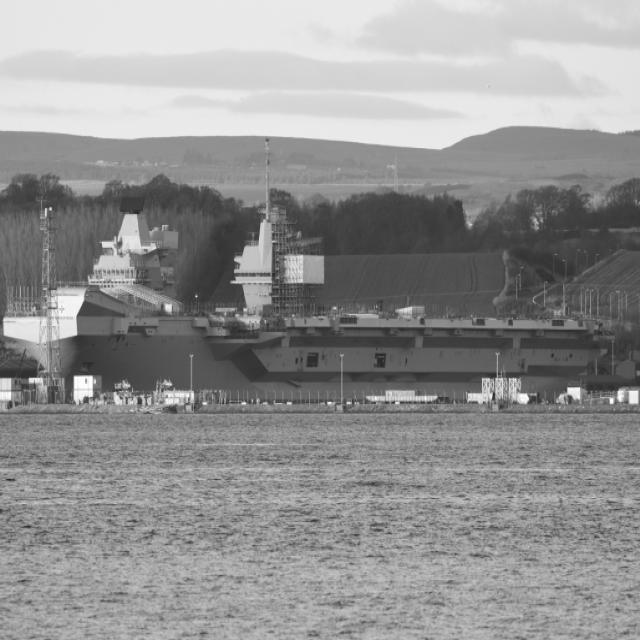Portanaves: (5, 126, 625, 411)
